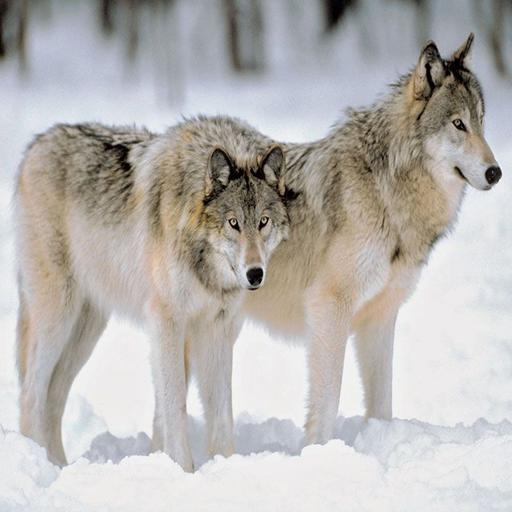Wolf: (137, 28, 509, 471), (3, 113, 304, 488)
